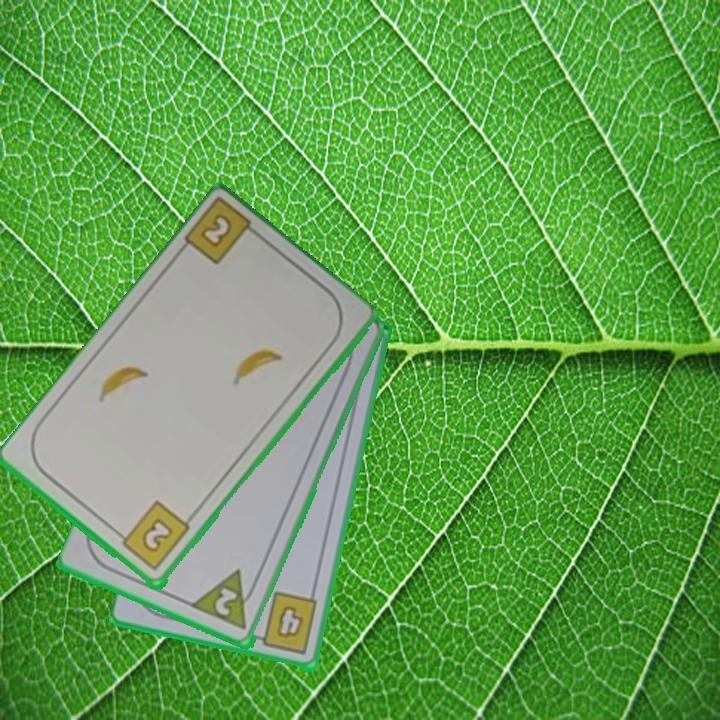2b: (113, 498, 193, 574), (197, 210, 236, 251)
2p: (211, 584, 241, 620)
4b: (249, 589, 321, 658)
